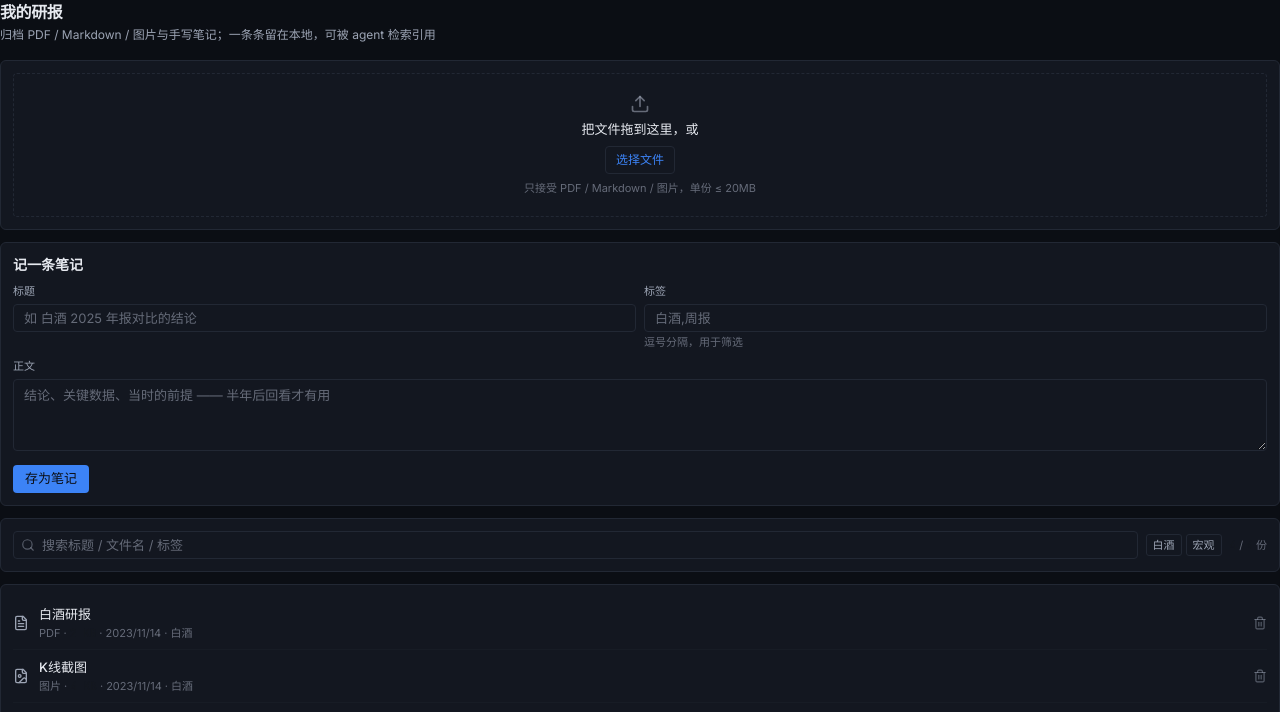
Test case: 归档列表 › 搜索标题
Type "周报" into the field named "搜索归档".
click(575, 545); type("周报")  # box x1=13 y1=531 x2=1138 y2=559
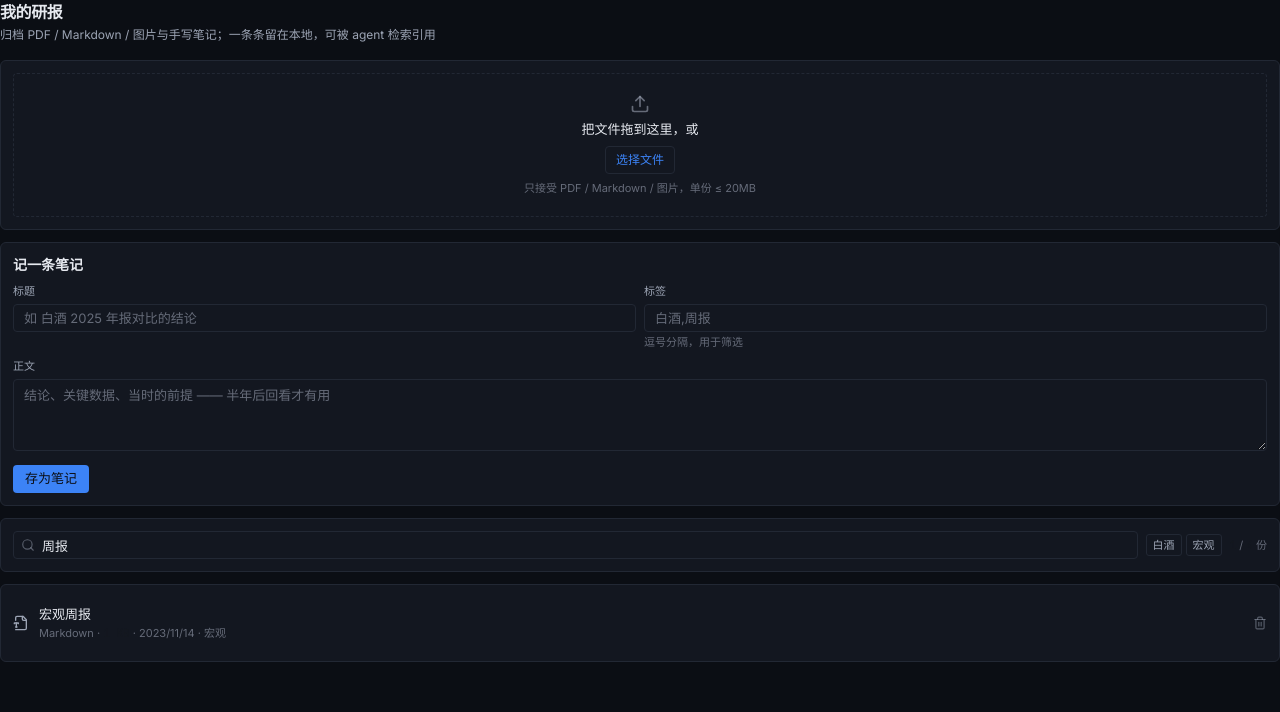
Expected: the text "宏观周报" is shown, x1=39 y1=606 x2=91 y2=622
Now the number of elements with test id "doc-row" is 1, box x1=13 y1=597 x2=1267 y2=649
